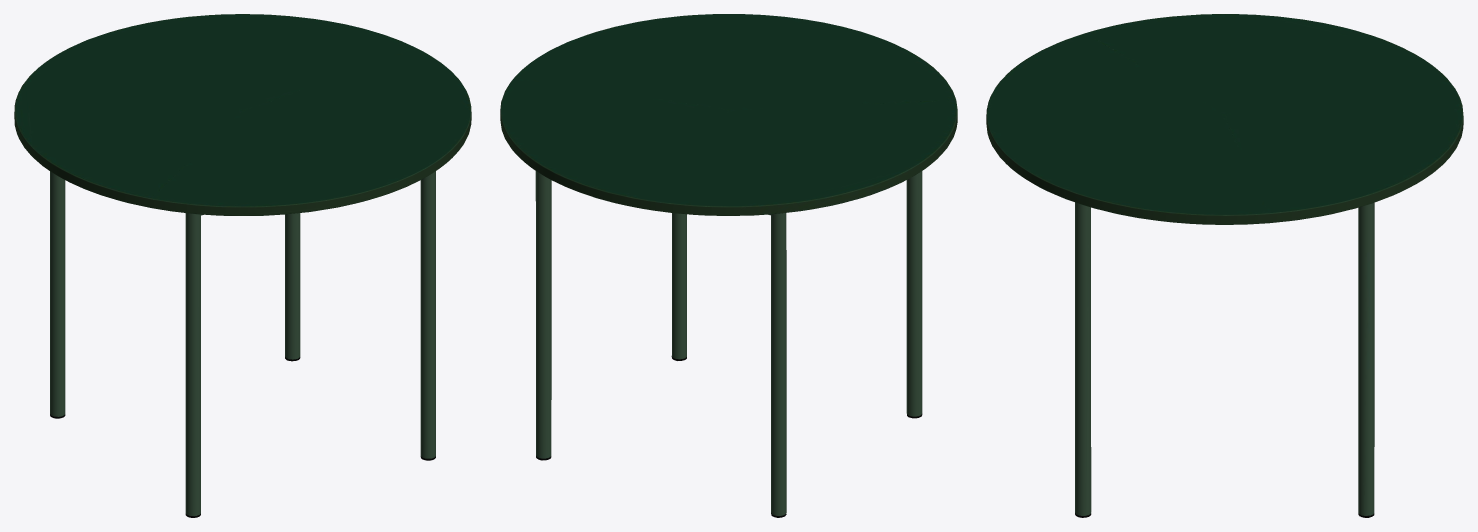
File: ikea_ps_2026_sto_80617895.glb
3 views of the same model, side by side, from view 1: azimuth 30°, elevation 25°; view 2: azimuth 150°, elevation 25°; view 3: azimuth 270°, elevation 25° (orthographic). The views are drawn at different scales.
Parts seen in each view (by area): view 1: ikea_ps_2026_sto_80617895; view 2: ikea_ps_2026_sto_80617895; view 3: ikea_ps_2026_sto_80617895.
Boxes of the visible parts, <box> form: ikea_ps_2026_sto_80617895: <box>14,14,471,517</box>; ikea_ps_2026_sto_80617895: <box>500,14,957,517</box>; ikea_ps_2026_sto_80617895: <box>986,14,1463,517</box>.
Bounding box in the file's own units: 0.9605 × 0.7563 × 0.9603.
Materials: 1 (1 with a texture image).
